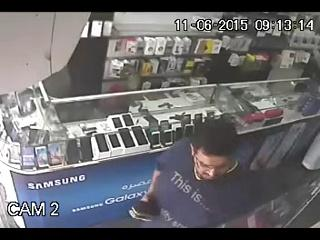Normal: (128, 116, 250, 228)
